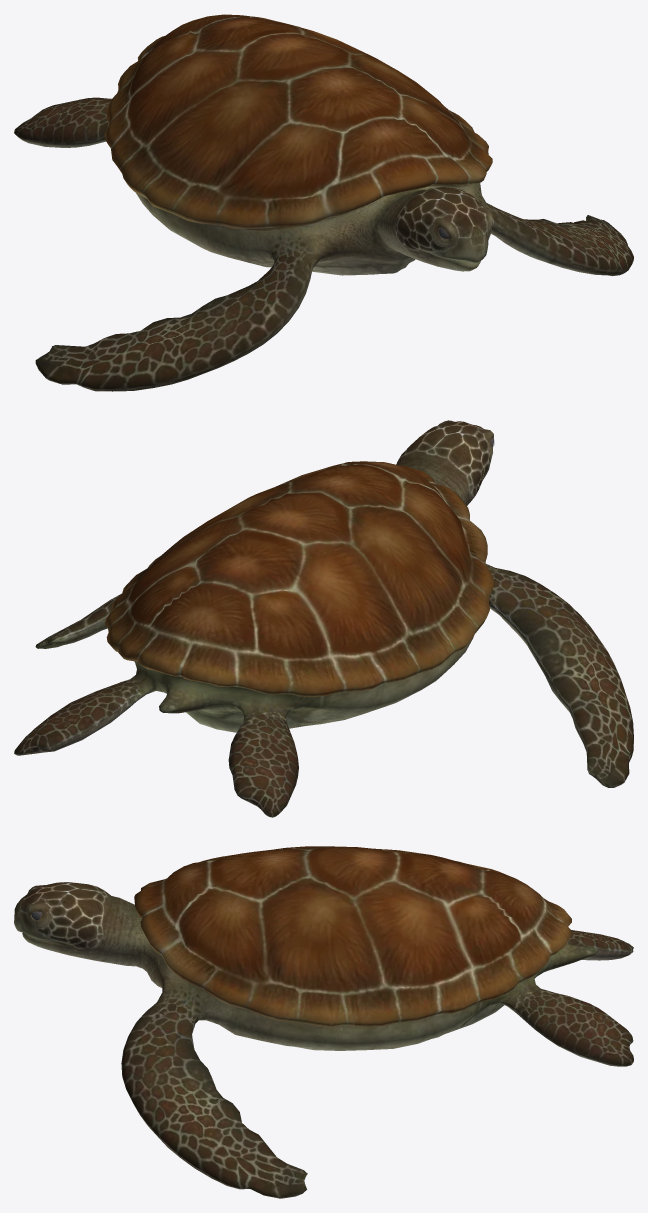
Rendered from turtle.glb.
The picture shows the model from 3 angles, top to bottom: view 1: azimuth 30°, elevation 25°; view 2: azimuth 150°, elevation 25°; view 3: azimuth 270°, elevation 25°; orthographic projection. The views are drawn at different scales.
Parts seen in each view (by area): view 1: turt lp arms down_Turtle.001_0; view 2: turt lp arms down_Turtle.001_0; view 3: turt lp arms down_Turtle.001_0.
Boxes of the visible parts, x1,y1,x2,y2 form: turt lp arms down_Turtle.001_0: (14,14,633,391); turt lp arms down_Turtle.001_0: (14,420,633,817); turt lp arms down_Turtle.001_0: (14,846,633,1198).
Bounding box in the file's own units: 53.22 × 20.59 × 53.9.
Materials: 3 (2 with a texture image).
